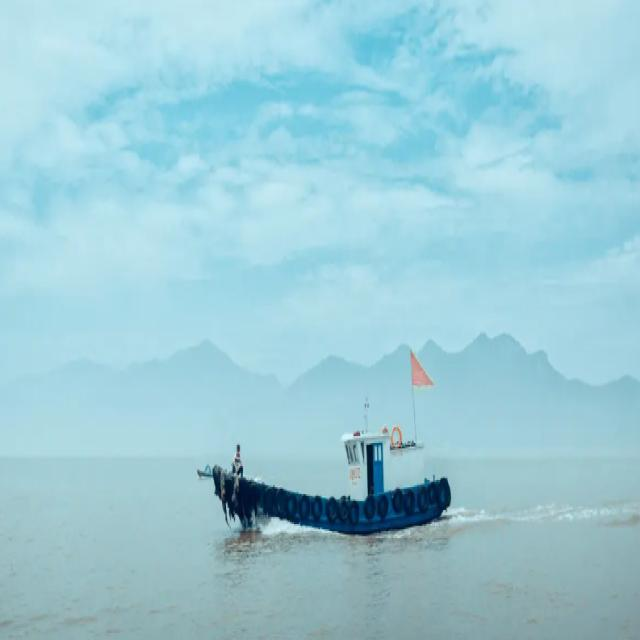fishing boat: (214, 428, 453, 533)
